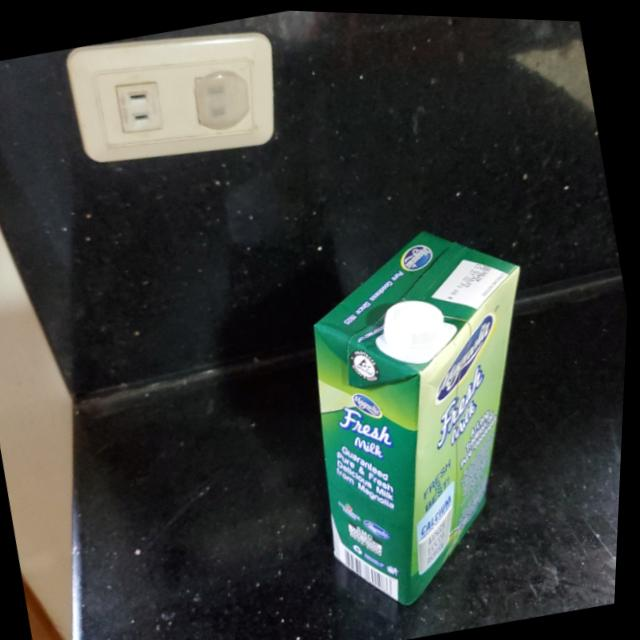milk: (278, 205, 594, 615)
